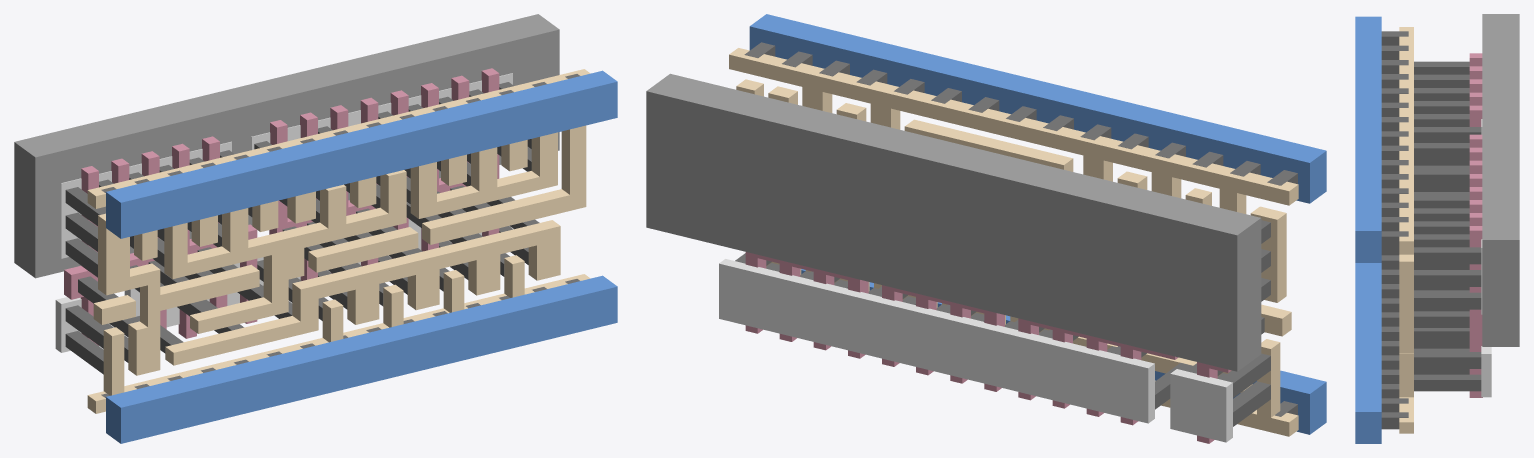
File: sky130_fd_sc_hd__o21bai_4.gds.gltf
3 views of the same model, side by side, from view 1: azimuth 30°, elevation 25°; view 2: azimuth 150°, elevation 25°; view 3: azimuth 270°, elevation 25° (orthographic). The views are drawn at different scales.
Parts seen in each view (by area): view 1: sky130_fd_sc_hd__o21bai_4_li1, sky130_fd_sc_hd__o21bai_4_met1, sky130_fd_sc_hd__o21bai_4_nwell, sky130_fd_sc_hd__o21bai_4_licon, sky130_fd_sc_hd__o21bai_4_poly, sky130_fd_sc_hd__o21bai_4_diff, sky130_fd_sc_hd__o21bai_4_mcon; view 2: sky130_fd_sc_hd__o21bai_4_nwell, sky130_fd_sc_hd__o21bai_4_diff, sky130_fd_sc_hd__o21bai_4_li1, sky130_fd_sc_hd__o21bai_4_met1, sky130_fd_sc_hd__o21bai_4_poly, sky130_fd_sc_hd__o21bai_4_mcon, sky130_fd_sc_hd__o21bai_4_licon; view 3: sky130_fd_sc_hd__o21bai_4_licon, sky130_fd_sc_hd__o21bai_4_nwell, sky130_fd_sc_hd__o21bai_4_met1, sky130_fd_sc_hd__o21bai_4_mcon, sky130_fd_sc_hd__o21bai_4_li1, sky130_fd_sc_hd__o21bai_4_poly, sky130_fd_sc_hd__o21bai_4_diff.
Boxes of the visible parts, <box> form: sky130_fd_sc_hd__o21bai_4_li1: <box>87,69,590,413</box>; sky130_fd_sc_hd__o21bai_4_met1: <box>106,70,617,443</box>; sky130_fd_sc_hd__o21bai_4_nwell: <box>14,14,559,278</box>; sky130_fd_sc_hd__o21bai_4_licon: <box>65,82,539,374</box>; sky130_fd_sc_hd__o21bai_4_poly: <box>64,68,499,345</box>; sky130_fd_sc_hd__o21bai_4_diff: <box>55,73,512,352</box>; sky130_fd_sc_hd__o21bai_4_mcon: <box>101,74,579,397</box>; sky130_fd_sc_hd__o21bai_4_nwell: <box>646,73,1261,371</box>; sky130_fd_sc_hd__o21bai_4_diff: <box>719,259,1232,442</box>; sky130_fd_sc_hd__o21bai_4_li1: <box>729,48,1298,436</box>; sky130_fd_sc_hd__o21bai_4_met1: <box>749,14,1326,434</box>; sky130_fd_sc_hd__o21bai_4_poly: <box>745,252,1231,443</box>; sky130_fd_sc_hd__o21bai_4_mcon: <box>744,42,1297,416</box>; sky130_fd_sc_hd__o21bai_4_licon: <box>735,220,1270,426</box>; sky130_fd_sc_hd__o21bai_4_licon: <box>1414,61,1481,391</box>; sky130_fd_sc_hd__o21bai_4_nwell: <box>1482,14,1519,346</box>; sky130_fd_sc_hd__o21bai_4_met1: <box>1355,16,1381,443</box>; sky130_fd_sc_hd__o21bai_4_mcon: <box>1381,31,1408,429</box>; sky130_fd_sc_hd__o21bai_4_li1: <box>1399,27,1413,433</box>; sky130_fd_sc_hd__o21bai_4_poly: <box>1469,53,1482,397</box>; sky130_fd_sc_hd__o21bai_4_diff: <box>1481,119,1491,397</box>.
Size of the model in its own units: 7.28 by 3.2 by 2.24.
